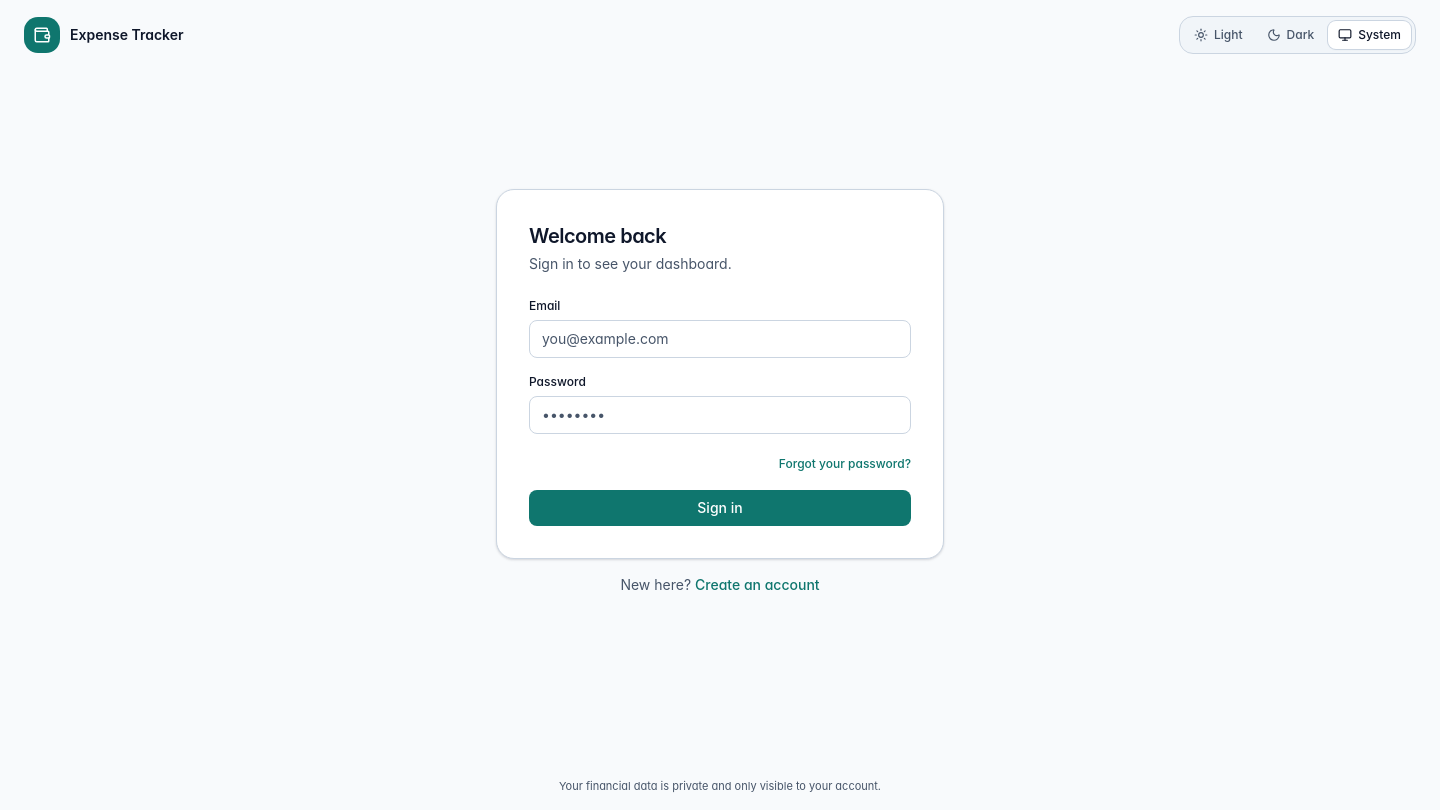
Test: Login › shows the provider error when sign-in fails
In the field labelled "Email": (720, 339) [529,320,911,358], type "ada@example.com"
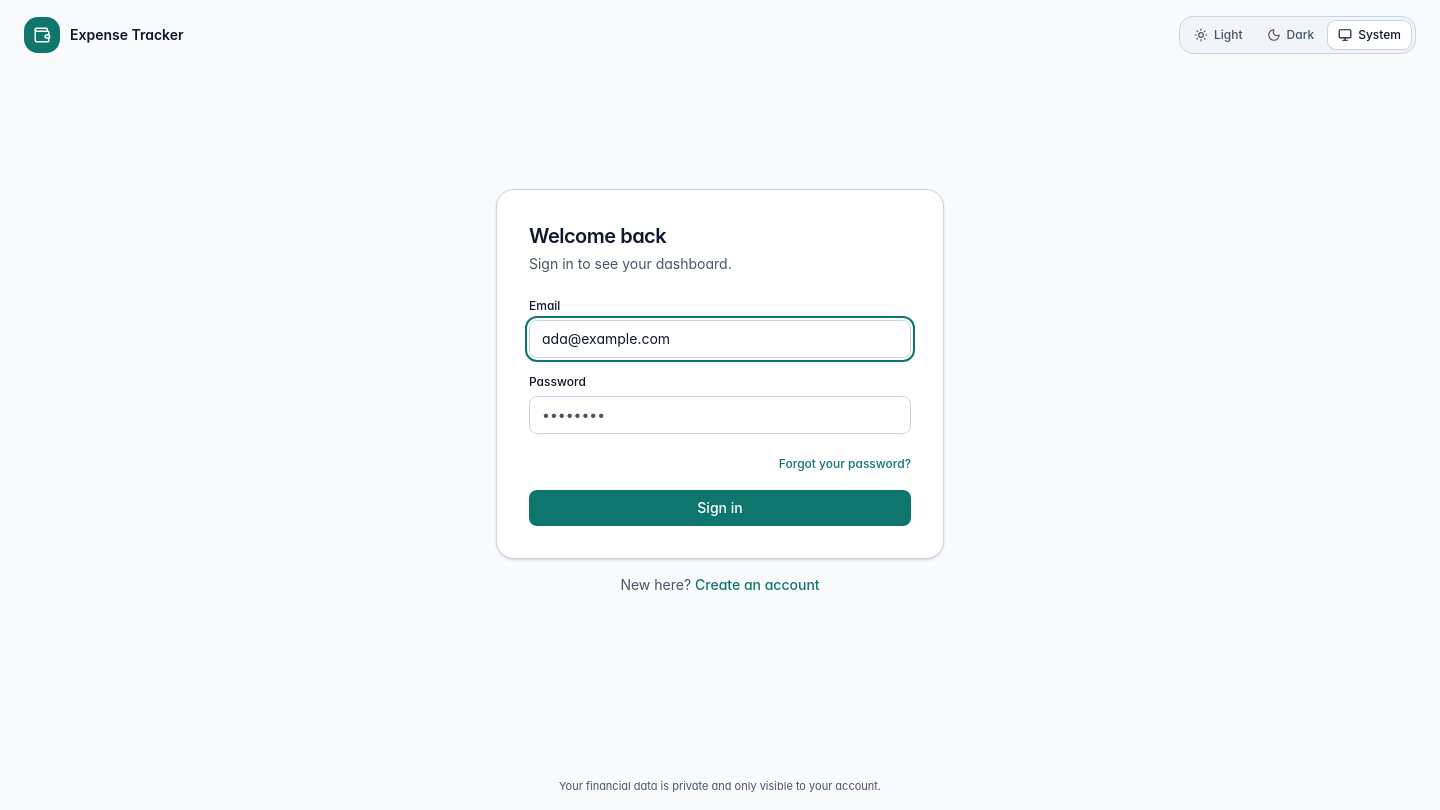
In the password field labelled "Password": (720, 415) [529,396,911,434], type "wrongpass"
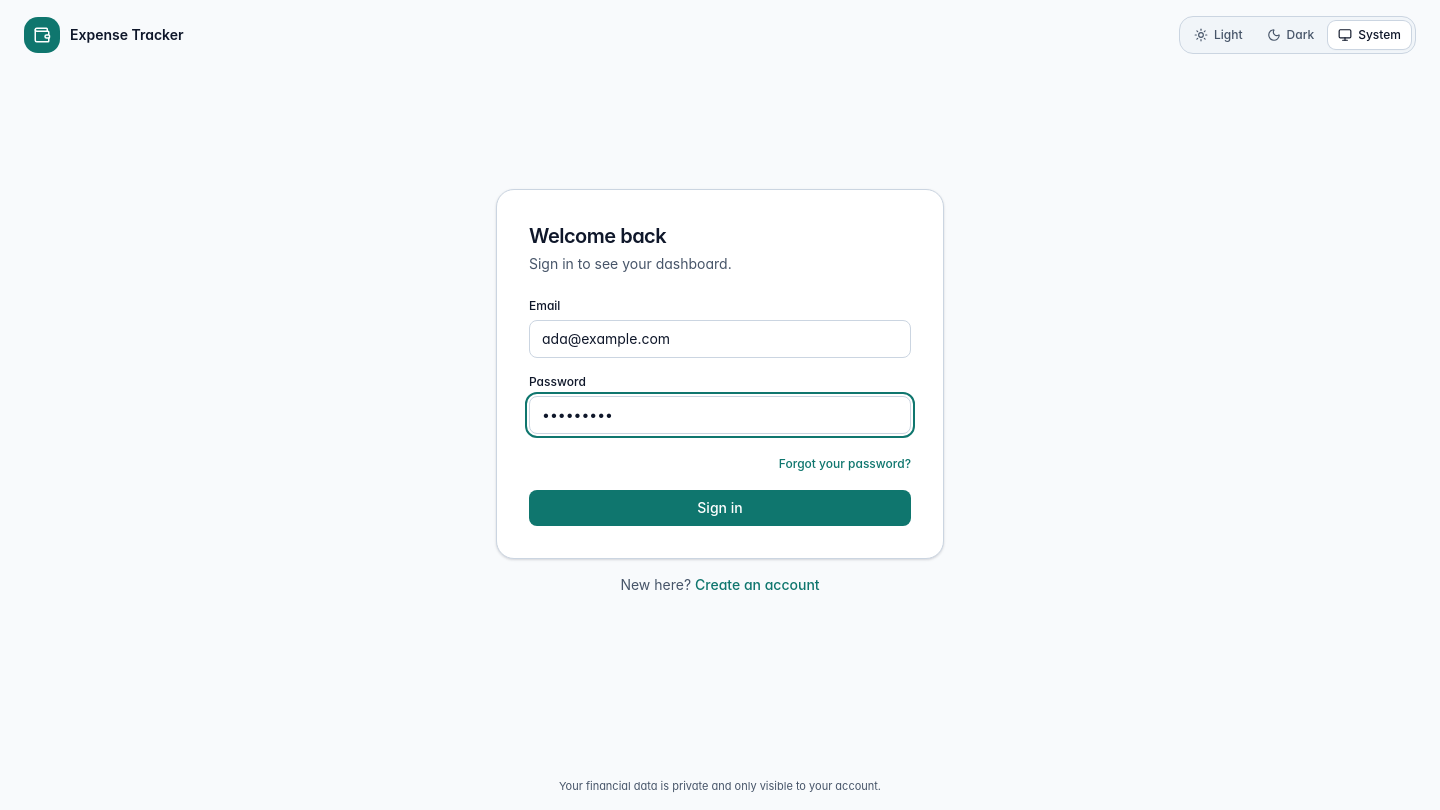
Click the button "Sign in": (720, 508) [529,490,911,526]
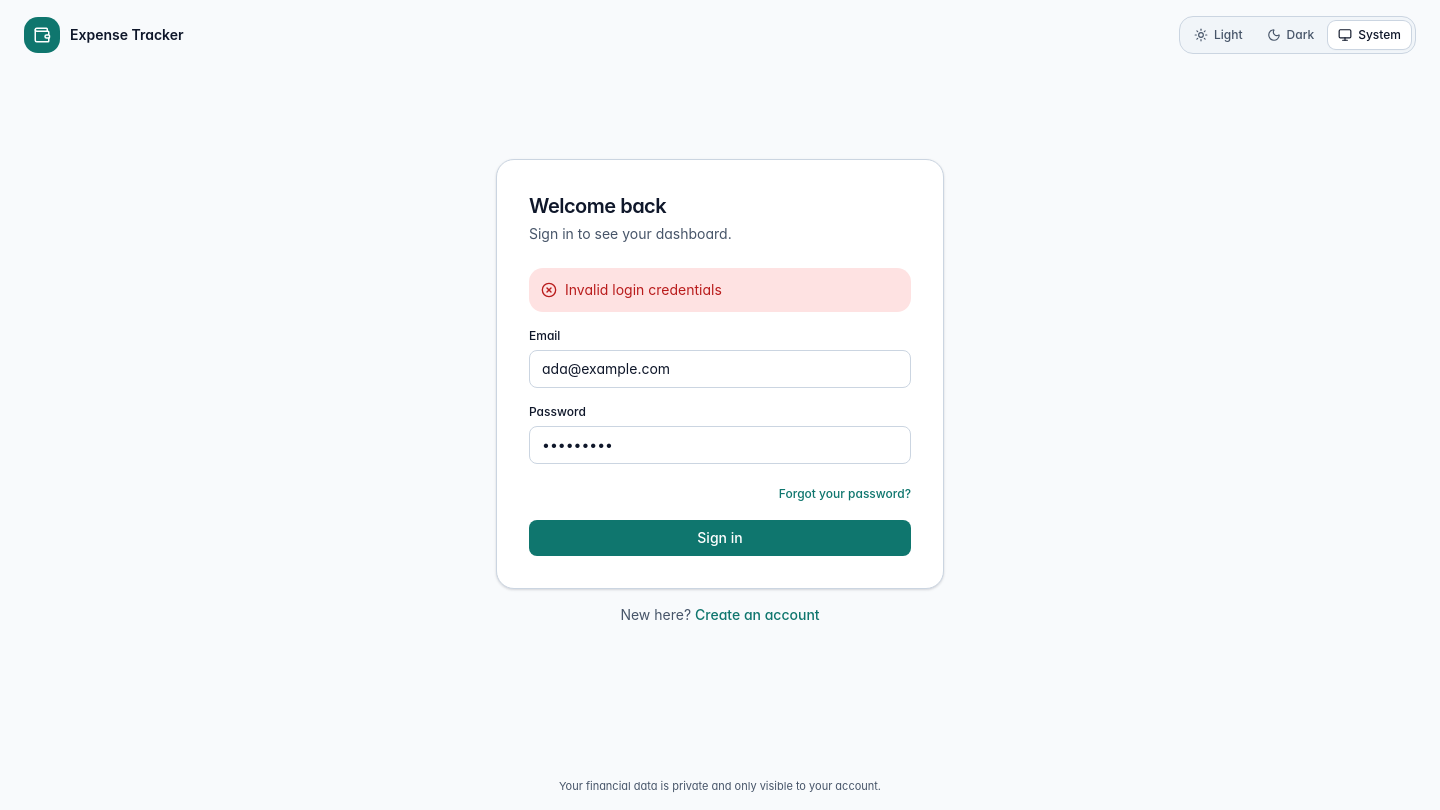
expect the message reads "Invalid login credentials": met, box [565,281,722,298]
